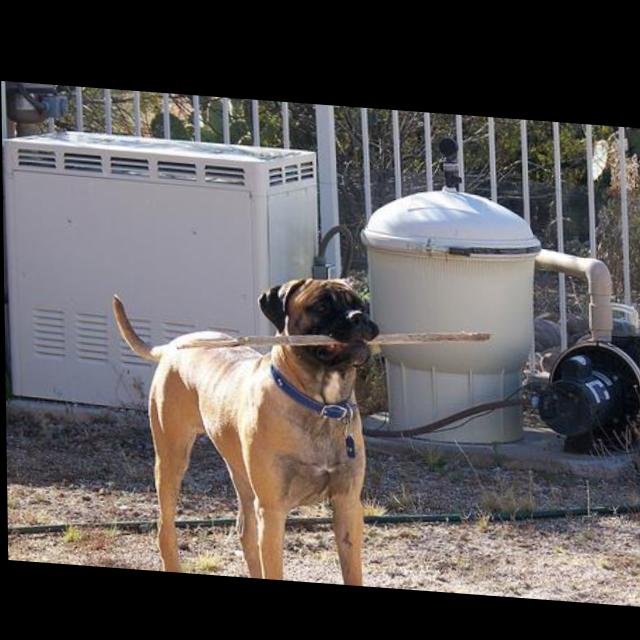bullmastiff: (112, 258, 385, 582)
